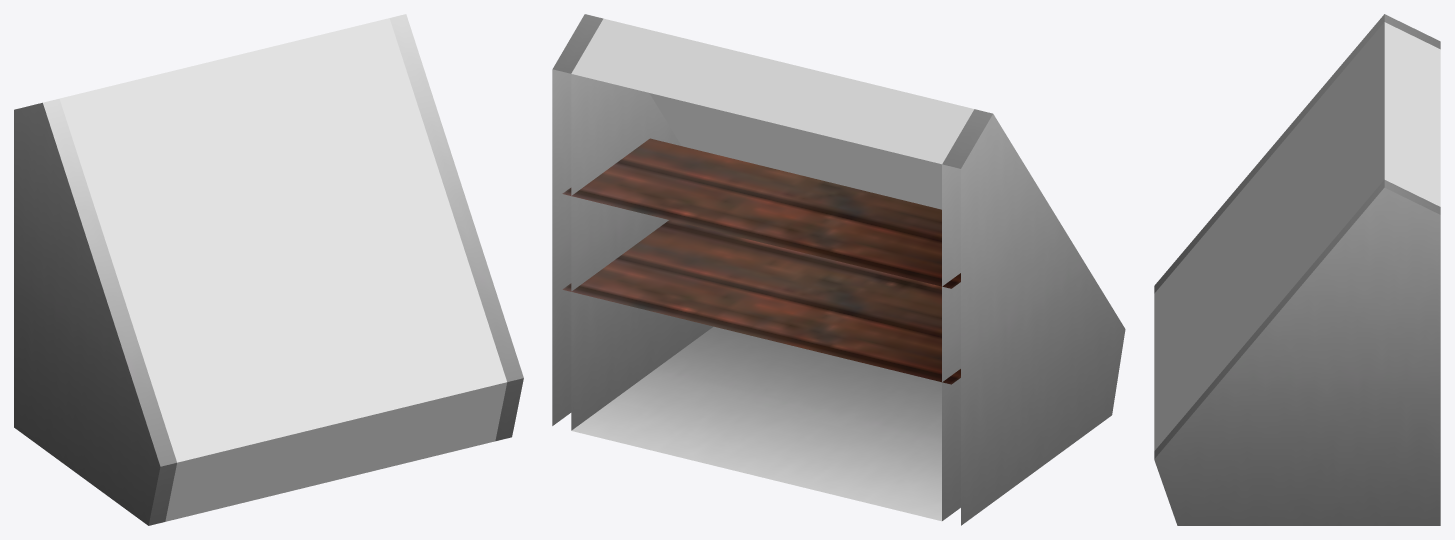
The model's file is PotatoFreeShalf.fbx.
The picture shows the model from 3 angles, left to right: view 1: azimuth 30°, elevation 25°; view 2: azimuth 150°, elevation 25°; view 3: azimuth 270°, elevation 25°; orthographic projection. The views are drawn at different scales.
Visible parts, largest first — view 1: Glass, Shalf; view 2: Shalf, Glass; view 3: Shalf, Glass.
Part boxes in pixels (x1,y1,x2,y2): Glass: (59, 18, 507, 521); Shalf: (14, 14, 523, 525); Shalf: (552, 14, 1125, 525); Glass: (571, 18, 974, 209); Shalf: (1154, 14, 1440, 525); Glass: (1154, 22, 1440, 450).
Size of the model in its own units: 240 by 218 by 167.
